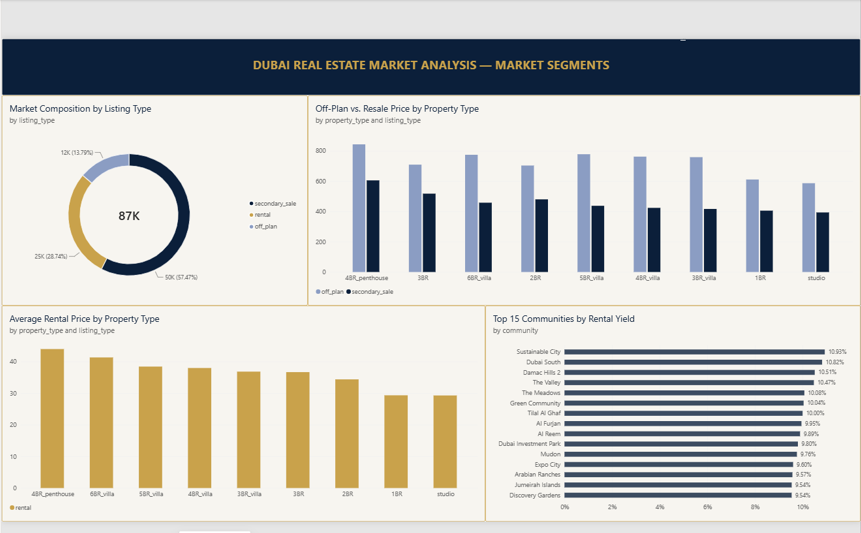

The page's visual inventory and layout, read from the dashboard file:
{"tool":"powerbi","page":{"name":"Market Segments","canvas":[1920,1080],"ordinal":1},"visuals":[{"type":"donutChart","fields":{"Category":["fact_listings.listing_type"],"Y":["CountNonNull(fact_listings.id)"]},"box":[0,0,684.3,539.8],"z":0},{"type":"clusteredColumnChart","fields":{"Category":["fact_listings.property_type"],"Series":["fact_listings.listing_type"],"Y":["Avg(fact_listings.price_per_sqft_usd)"]},"box":[684.3,0,1235.7,539.8],"z":1000},{"type":"clusteredColumnChart","fields":{"Category":["fact_listings.property_type"],"Series":["fact_listings.listing_type"],"Y":["Avg(fact_listings.price_per_sqft_usd)"]},"box":[0,539.8,1081.1,539.8],"z":2000},{"type":"clusteredBarChart","fields":{"Category":["dim_community.community"],"Y":["fact_listings.Community Rental Yield %"]},"box":[1081,540,839,540],"z":3000}]}

Visuals, with their boxes on the page's 1920x1080 design canvas (x1, y1, x2, y2). These are canvas units, not pixel positions in the 861x533 screenshot, which may show the page scaled, cropped or inside an application window:
donutChart - fact_listings.listing_type x CountNonNull(fact_listings.id): Rect(0, 0, 684, 540)
clusteredColumnChart - fact_listings.property_type x fact_listings.listing_type: Rect(684, 0, 1920, 540)
clusteredColumnChart - fact_listings.property_type x fact_listings.listing_type: Rect(0, 540, 1081, 1080)
clusteredBarChart - dim_community.community x fact_listings.Community Rental Yield %: Rect(1081, 540, 1920, 1080)
